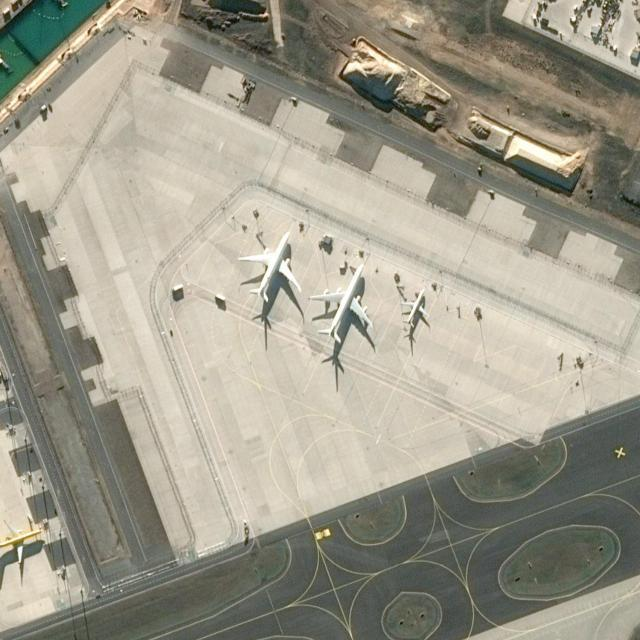Aircraft: (310, 264, 375, 347), (310, 262, 375, 344), (238, 230, 303, 306), (238, 230, 303, 303), (0, 520, 45, 569), (0, 524, 44, 568), (400, 288, 430, 330), (401, 290, 431, 330)
